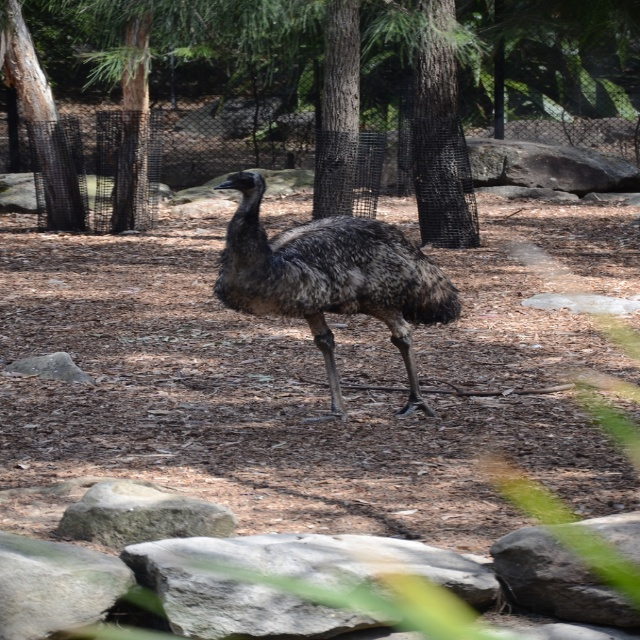Ostrich: (205, 166, 468, 430)
